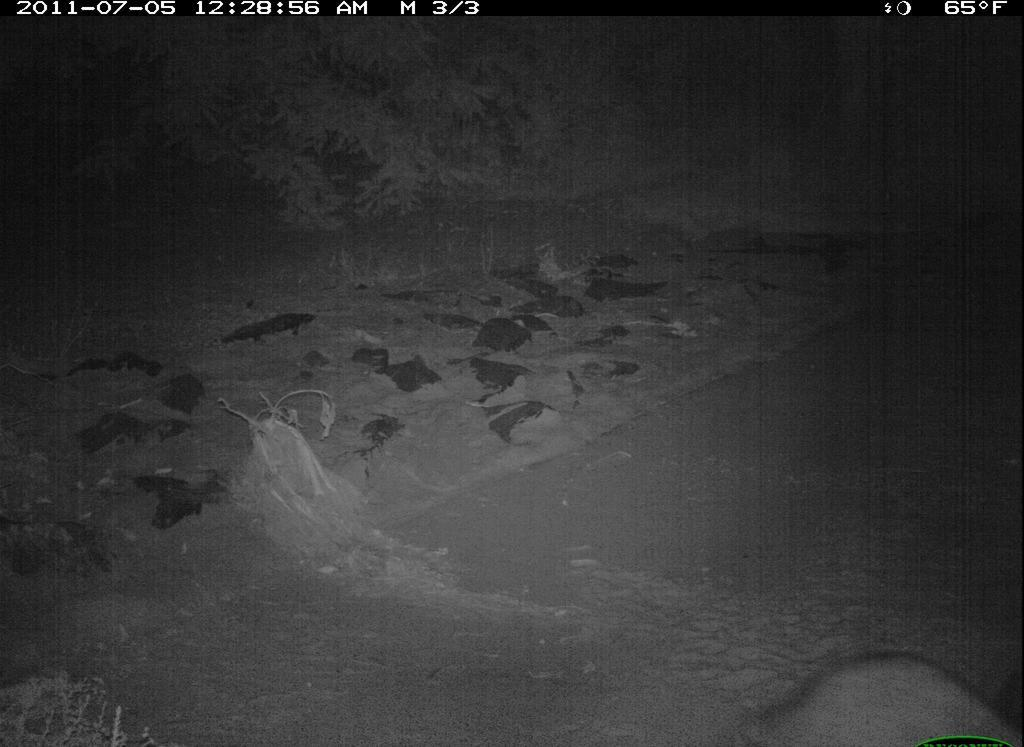raccoon: (742, 643, 1023, 747)
